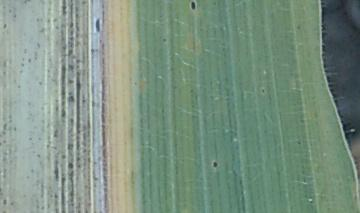tarspot: (94, 16, 101, 33), (189, 1, 197, 12), (210, 159, 219, 168), (260, 87, 267, 94), (161, 36, 167, 43)
